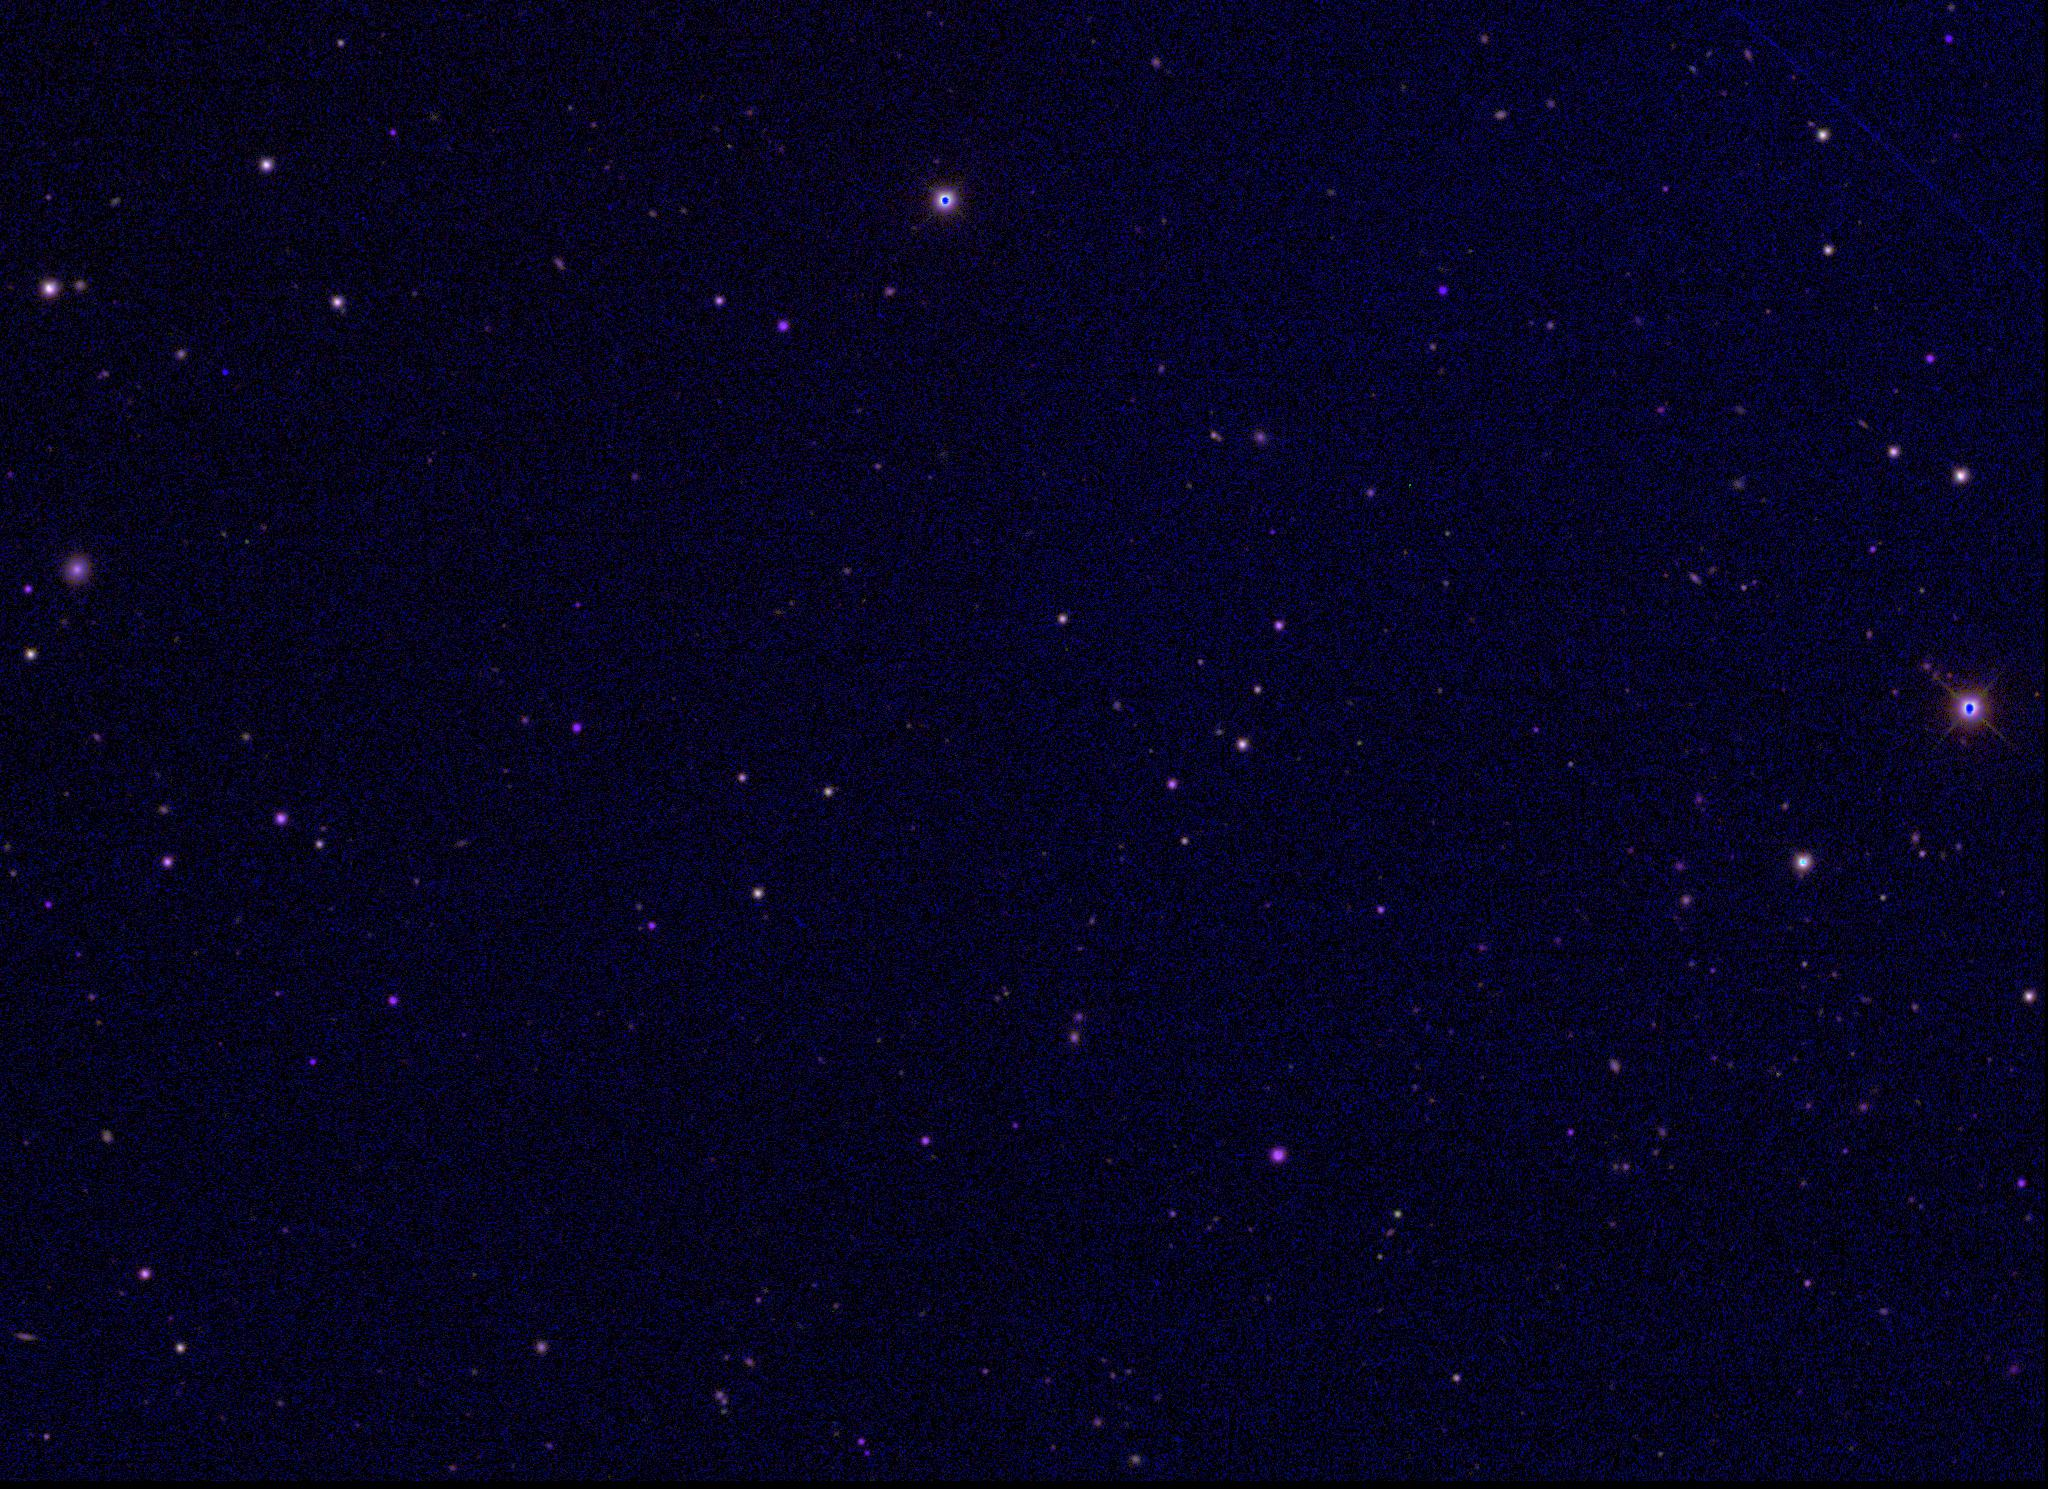L: (216, 364, 231, 379)
